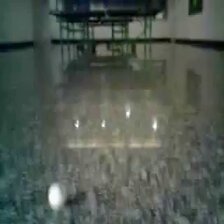w: (48, 183, 66, 208)
